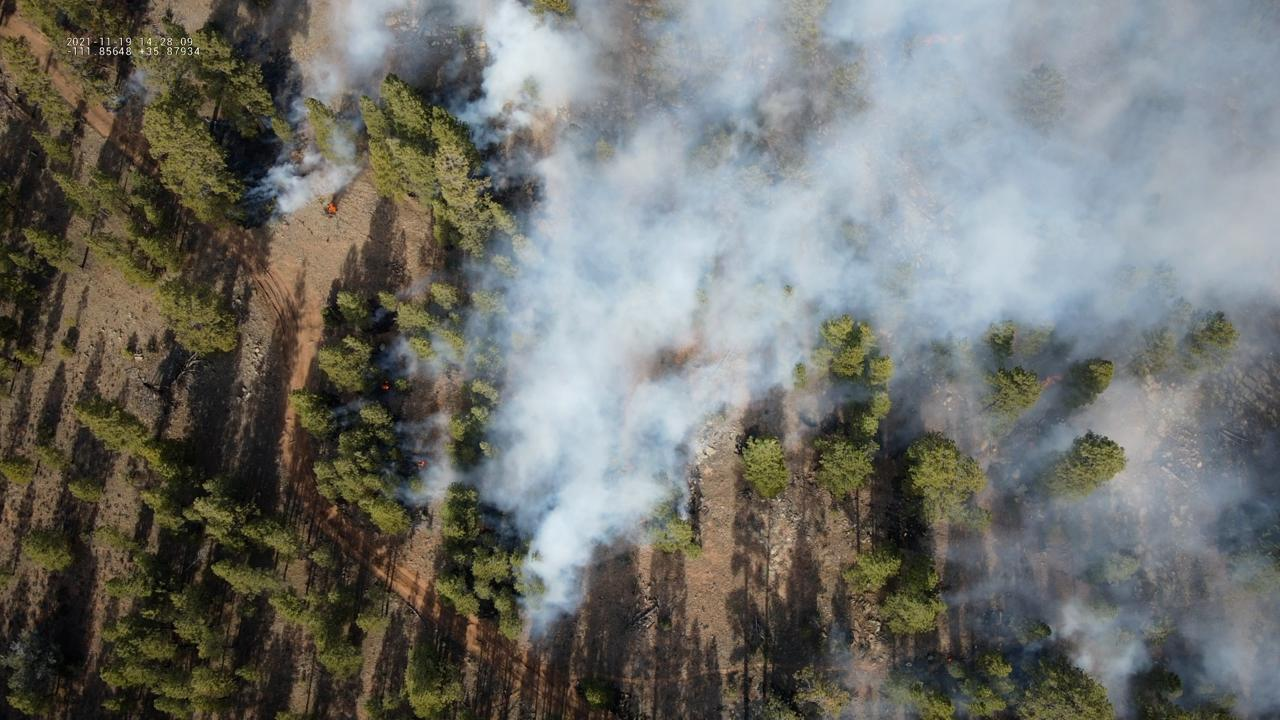fire: (1041, 373, 1064, 387), (326, 203, 338, 214), (417, 459, 426, 468), (382, 384, 390, 391)
smoke: (239, 0, 1280, 720), (113, 69, 150, 105)
